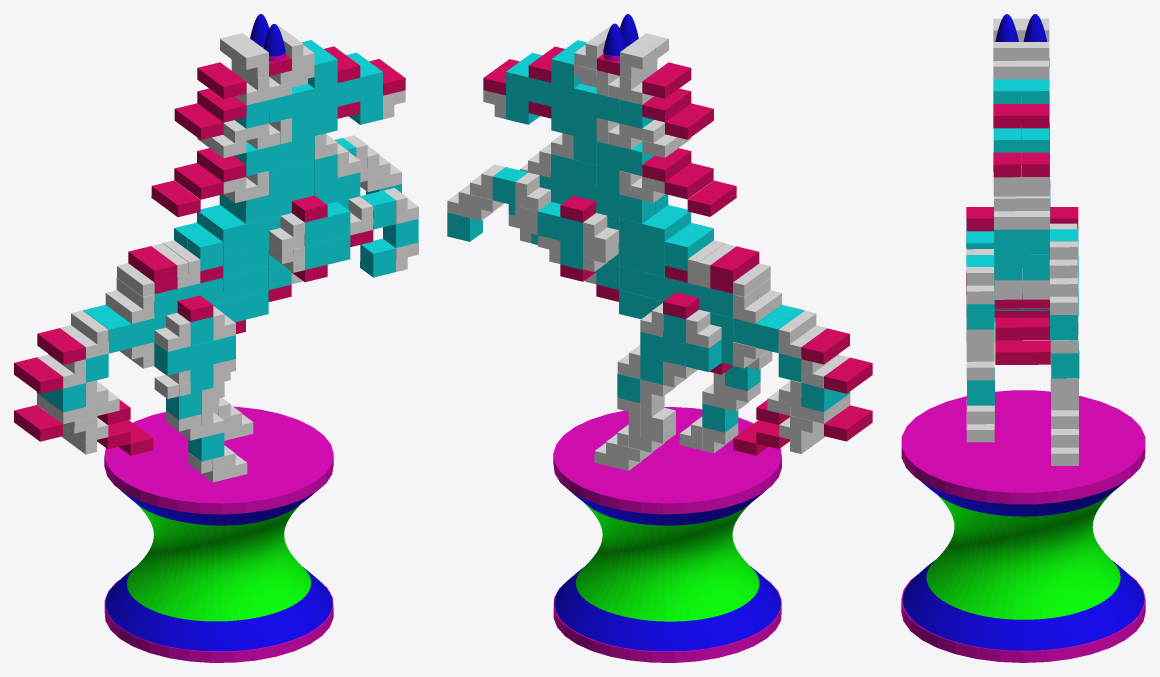
Rendered from Caba_Comp.glb.
3 views of the same model, side by side, from view 1: azimuth 30°, elevation 25°; view 2: azimuth 150°, elevation 25°; view 3: azimuth 270°, elevation 25° (orthographic). The views are drawn at different scales.
Visible parts, largest first — view 1: Superficie_B, Cylinder.001, Superficie_C, Cylinder, Superficie_C.001, Cube.351, Cube.196, Cube.168, Cube.130, Cube.406, Cube.340, Cube.317 (+28 smaller); view 2: Superficie_B, Cylinder.001, Superficie_C, Cylinder, Superficie_C.001, Cube.195, Cube.169, Cube.405, Cube.378, Cube.084, Cube.318, Cube.096 (+22 smaller); view 3: Cylinder.001, Superficie_B, Superficie_C, Cylinder, Superficie_C.001, Cube.070, Cube.347, Cube.266, Cube.293, Cube.096, Cube.318, Cube.295 (+45 smaller).
Boxes of the visible parts, left/top/right/bottom form: Superficie_B: left=127, top=503, right=311, bottom=621; Cylinder.001: left=104, top=406, right=333, bottom=514; Superficie_C: left=105, top=567, right=332, bottom=651; Cylinder: left=104, top=579, right=333, bottom=662; Superficie_C.001: left=120, top=490, right=314, bottom=525; Cube.351: left=360, top=238, right=395, bottom=277; Cube.196: left=210, top=214, right=245, bottom=253; Cube.168: left=187, top=232, right=222, bottom=271; Cube.130: left=154, top=342, right=190, bottom=375; Cube.406: left=96, top=314, right=131, bottom=353; Cube.340: left=360, top=190, right=395, bottom=229; Cube.317: left=308, top=49, right=337, bottom=88; Superficie_B: left=575, top=503, right=759, bottom=621; Cylinder.001: left=553, top=407, right=781, bottom=514; Superficie_C: left=554, top=566, right=780, bottom=651; Cylinder: left=553, top=579, right=781, bottom=662; Superficie_C.001: left=571, top=490, right=766, bottom=525; Cube.195: left=642, top=214, right=677, bottom=253; Cube.169: left=665, top=232, right=700, bottom=270; Cube.405: left=755, top=314, right=791, bottom=352; Cube.378: left=492, top=167, right=528, bottom=205; Cube.084: left=686, top=339, right=721, bottom=371; Cube.318: left=551, top=49, right=580, bottom=88; Cube.096: left=702, top=403, right=738, bottom=432; Cylinder.001: left=901, top=390, right=1145, bottom=504; Superficie_B: left=926, top=492, right=1120, bottom=619; Superficie_C: left=902, top=560, right=1144, bottom=650; Cylinder: left=901, top=574, right=1145, bottom=662; Superficie_C.001: left=921, top=480, right=1126, bottom=516; Cube.070: left=1051, top=342, right=1079, bottom=378; Cube.347: left=966, top=293, right=994, bottom=329; Cube.266: left=1022, top=254, right=1049, bottom=280; Cube.293: left=993, top=152, right=1021, bottom=177; Cube.096: left=967, top=368, right=994, bottom=405; Cube.318: left=1021, top=79, right=1049, bottom=115; Cube.295: left=993, top=128, right=1021, bottom=164.
Bounding box in the file's own units: 13.78 × 19.87 × 7.08.
